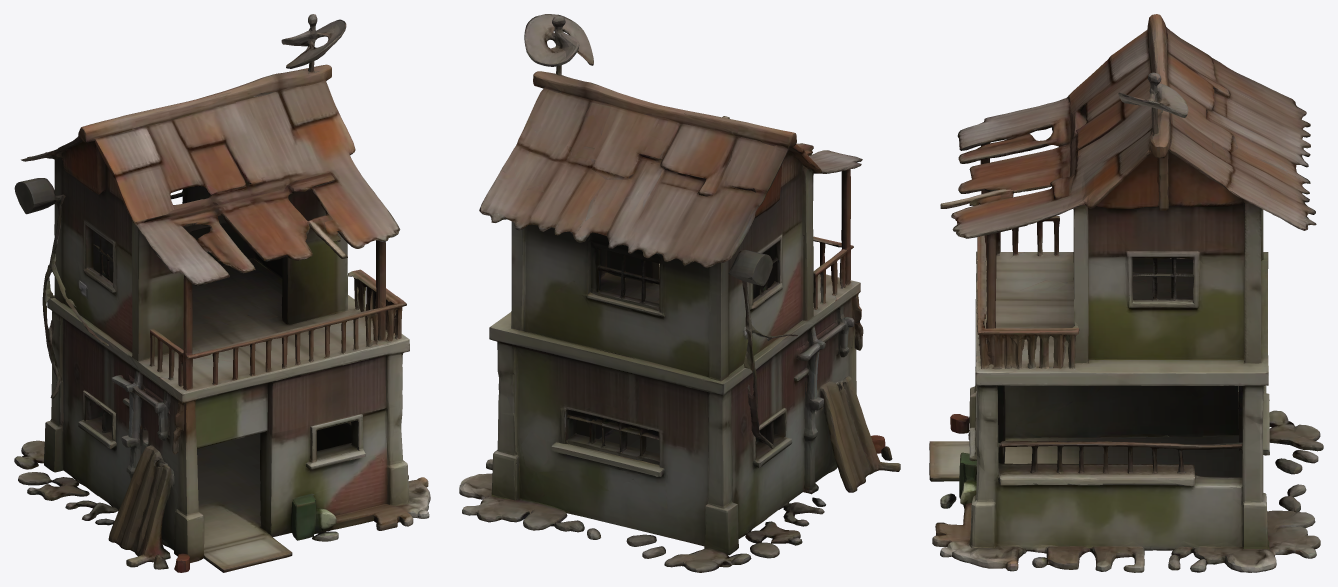
Rendered from house_big.glb.
3 views of the same model, side by side, from view 1: azimuth 30°, elevation 25°; view 2: azimuth 150°, elevation 25°; view 3: azimuth 270°, elevation 25° (orthographic). The views are drawn at different scales.
Visible parts, largest first — view 1: world; view 2: world; view 3: world.
Boxes of the visible parts, left/top/right/bottom form: world: left=14, top=14, right=430, bottom=572; world: left=459, top=14, right=900, bottom=572; world: left=929, top=14, right=1323, bottom=572.
Bounding box in the file's own units: 0.7461 × 1 × 0.754.
Materials: 1 (1 with a texture image).
